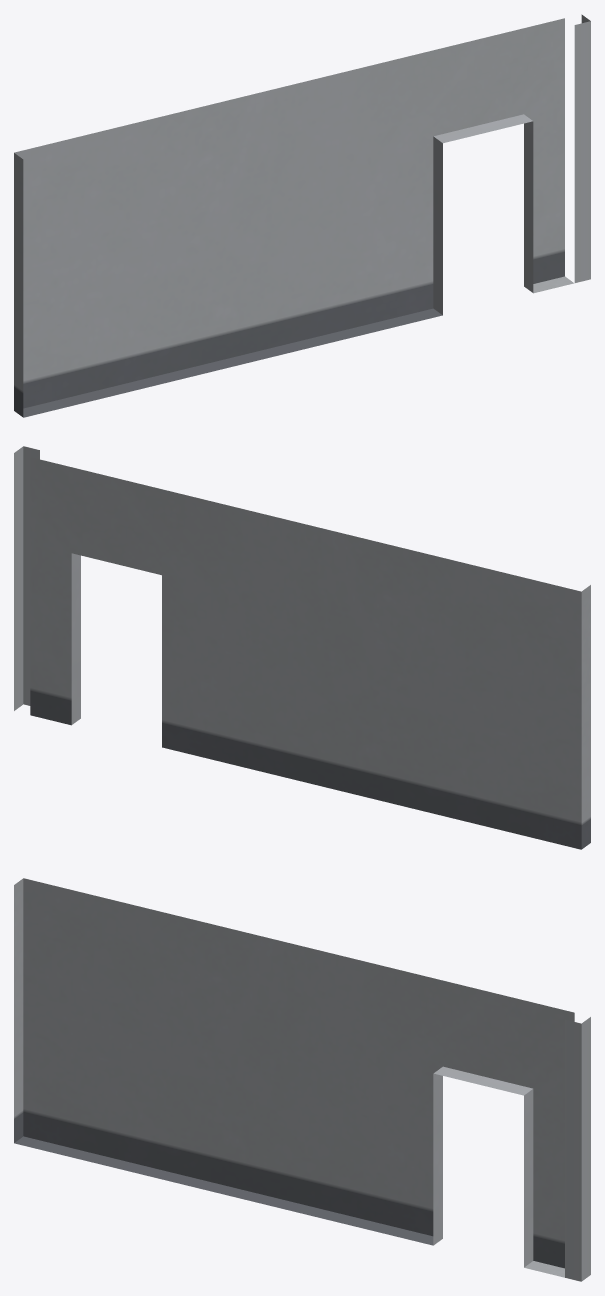
The model's file is BgMD_Tanihira_Wall2_0901.fbx.
The picture shows the model from 3 angles, top to bottom: view 1: azimuth 30°, elevation 25°; view 2: azimuth 150°, elevation 25°; view 3: azimuth 330°, elevation 25°; orthographic projection.
Visible parts, largest first — view 1: polySurface186; view 2: polySurface186; view 3: polySurface186.
Part boxes in pixels (left/top/right/bottom): polySurface186: left=14, top=14, right=590, bottom=417; polySurface186: left=14, top=446, right=590, bottom=849; polySurface186: left=14, top=878, right=590, bottom=1281.
Size of the model in its own units: 690 by 300 by 20.
